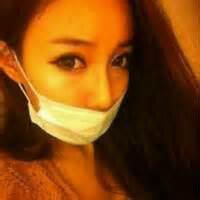WRONG: (31, 27, 139, 145)
